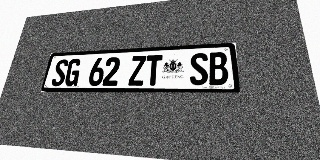2: (102, 57, 121, 86)
6: (88, 57, 106, 86)
B: (208, 52, 229, 85)
G: (64, 58, 82, 86)
S: (190, 53, 209, 85), (51, 59, 69, 86)
T: (144, 55, 163, 86)
Z: (128, 55, 146, 86)
